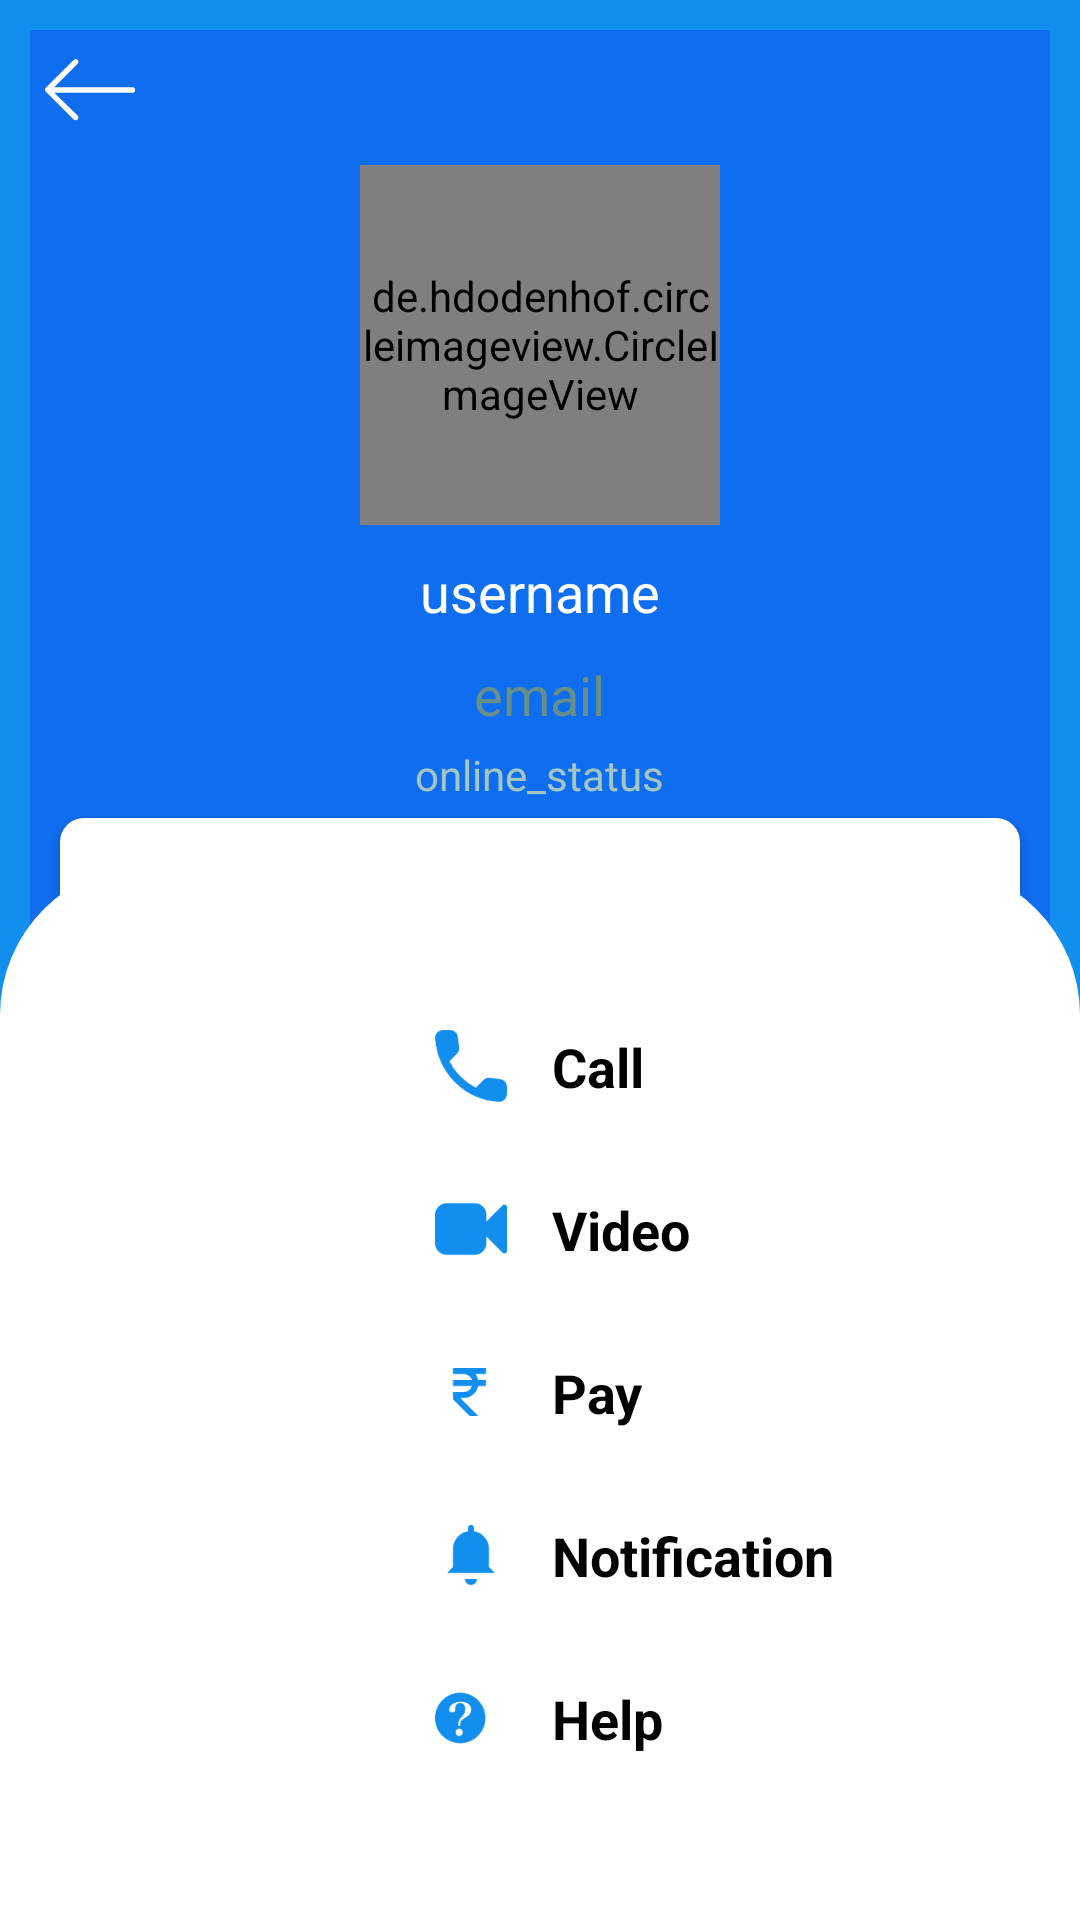

Icon bounding boxes for this 1080px x 1920px phone screenshot, format (x1, y1, x2, y2):
leftarrow: (45, 59, 135, 121)
